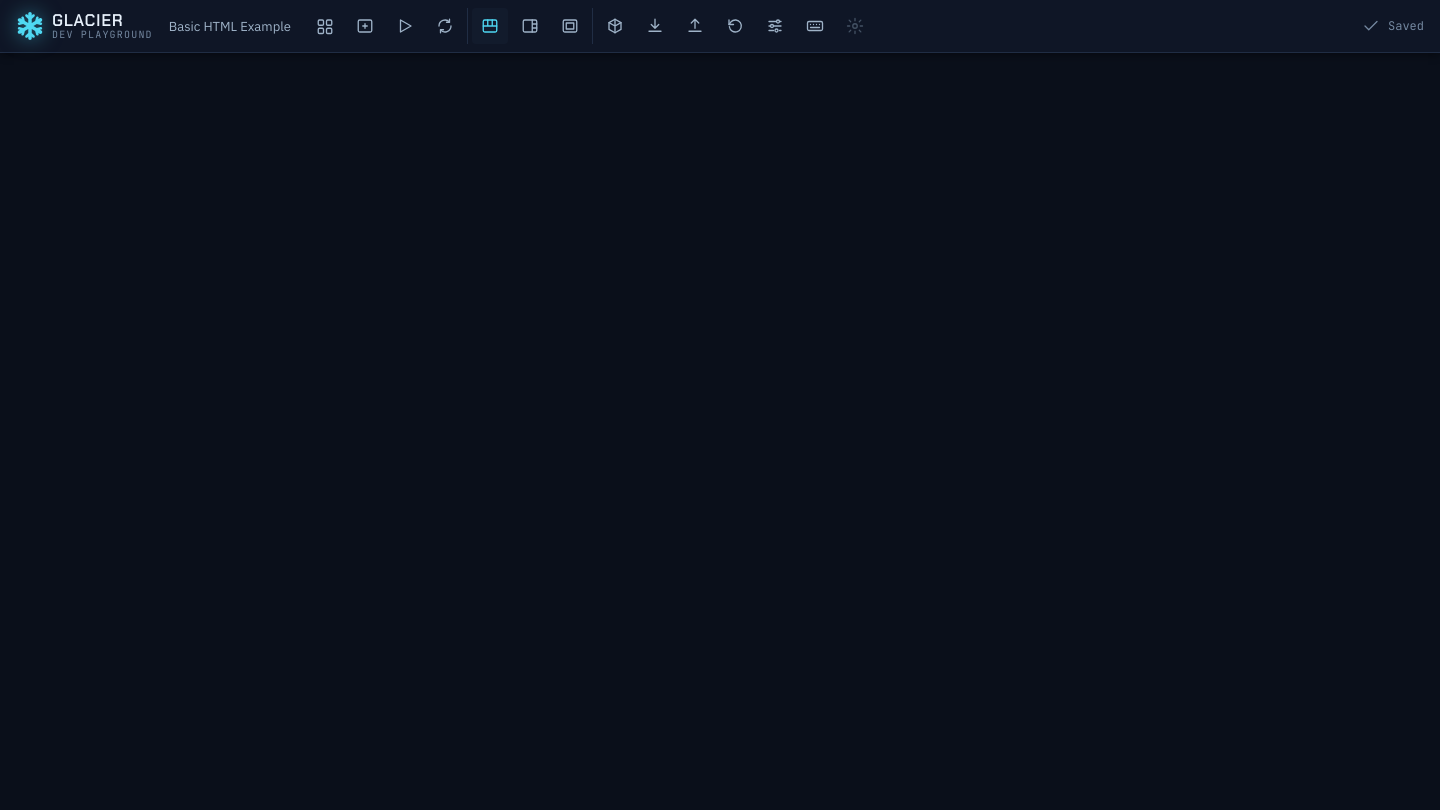
Test: Toolbar › opens the project switcher dialog from the toolbar button
Click the button named "Switch project". click: (325, 26)
box: [307,8,343,44]
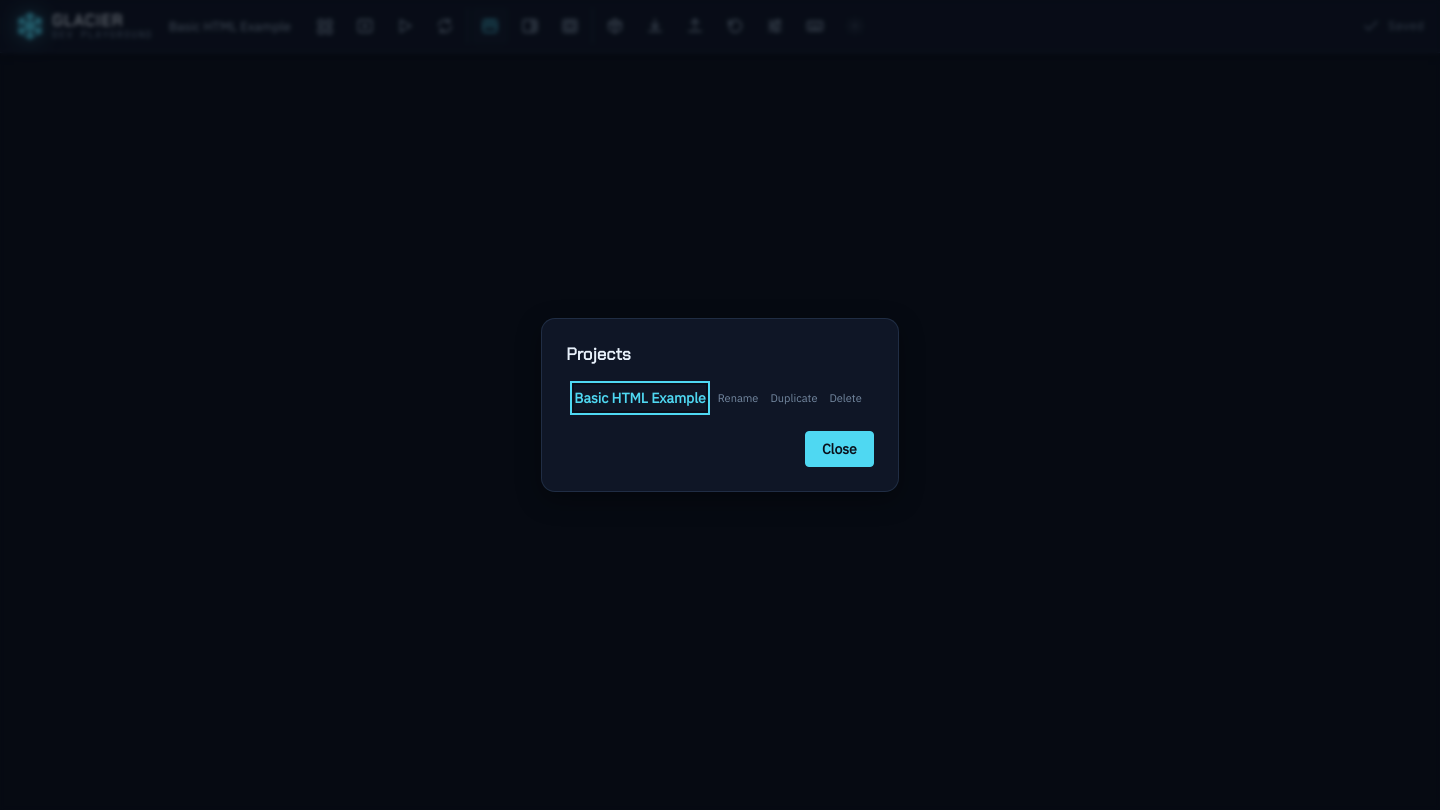
Expected: the dialog "Projects" is shown, [541,318,899,492]
